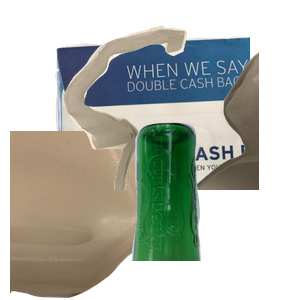glass: (129, 120, 300, 300)
paper: (52, 34, 292, 214)
plastic: (10, 131, 196, 300)
trash: (60, 23, 300, 203)
